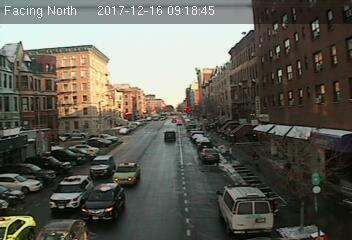car: (80, 182, 124, 222), (111, 161, 142, 187), (88, 155, 116, 179), (199, 147, 220, 165), (163, 129, 177, 141)
police: (215, 180, 274, 236), (49, 175, 95, 210)
